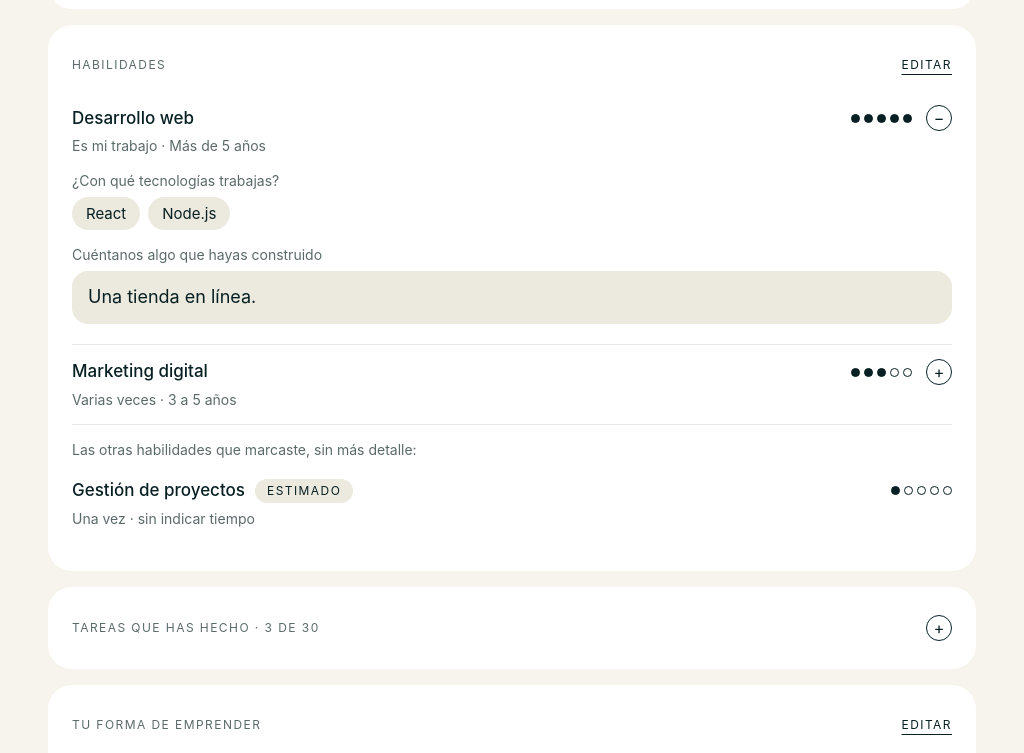
Test: MiPerfilView › Habilidades › la primera de las fuertes empieza abierta y al abrir otra se cierra la anterior
(page scrolled)
expect the text "¿Con qué tecnologías trabajas?" is shown: met, box [72,172,279,189]
Step 1. Click the button "Marketing digital + Varias veces · 3 a 5 años" → [140, 371], box [72,345,952,424]
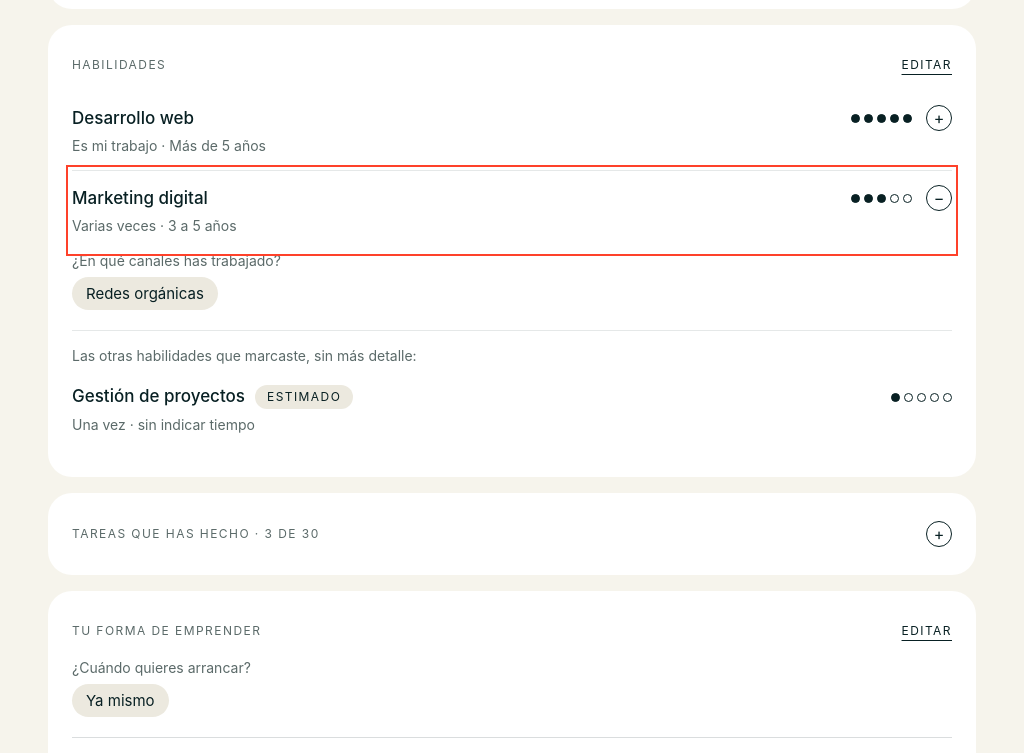
expect the button "Marketing digital − Varias veces · 3 a 5 años" is expanded: met, box [72,171,952,250]
expect the button "Desarrollo web + Es mi trabajo · Más de 5 años" is collapsed: met, box [72,91,952,170]
expect the text "¿Con qué tecnologías trabajas?" is gone: met
